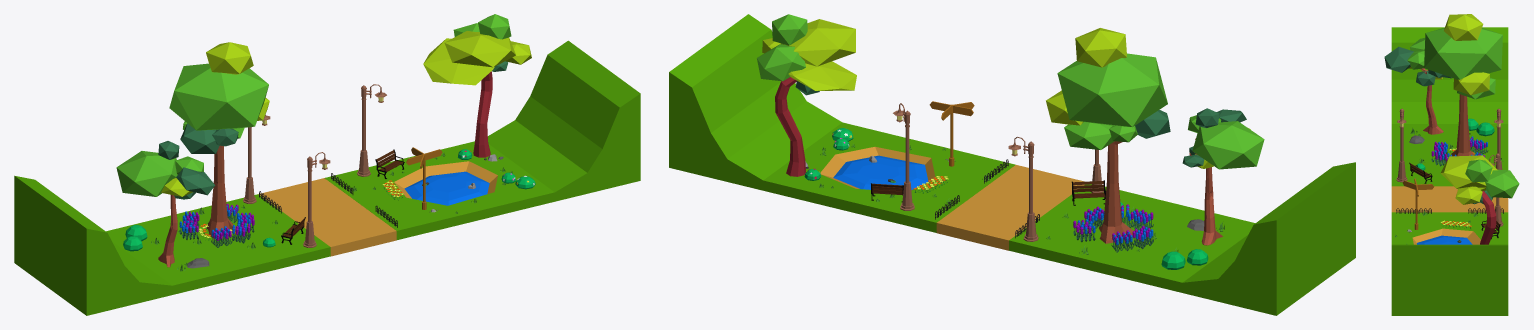
File: road4.fbx
3 views of the same model, side by side, from view 1: azimuth 30°, elevation 25°; view 2: azimuth 150°, elevation 25°; view 3: azimuth 270°, elevation 25° (orthographic). The views are drawn at different scales.
Visible parts, largest first — view 1: Plane.007; view 2: Plane.007; view 3: Plane.007.
Part boxes in pixels (bbox=[...]): Plane.007: bbox=[14, 14, 640, 315]; Plane.007: bbox=[669, 14, 1355, 315]; Plane.007: bbox=[1384, 14, 1519, 315].
Bounding box in the file's own units: 16759 × 5633 × 4383.
